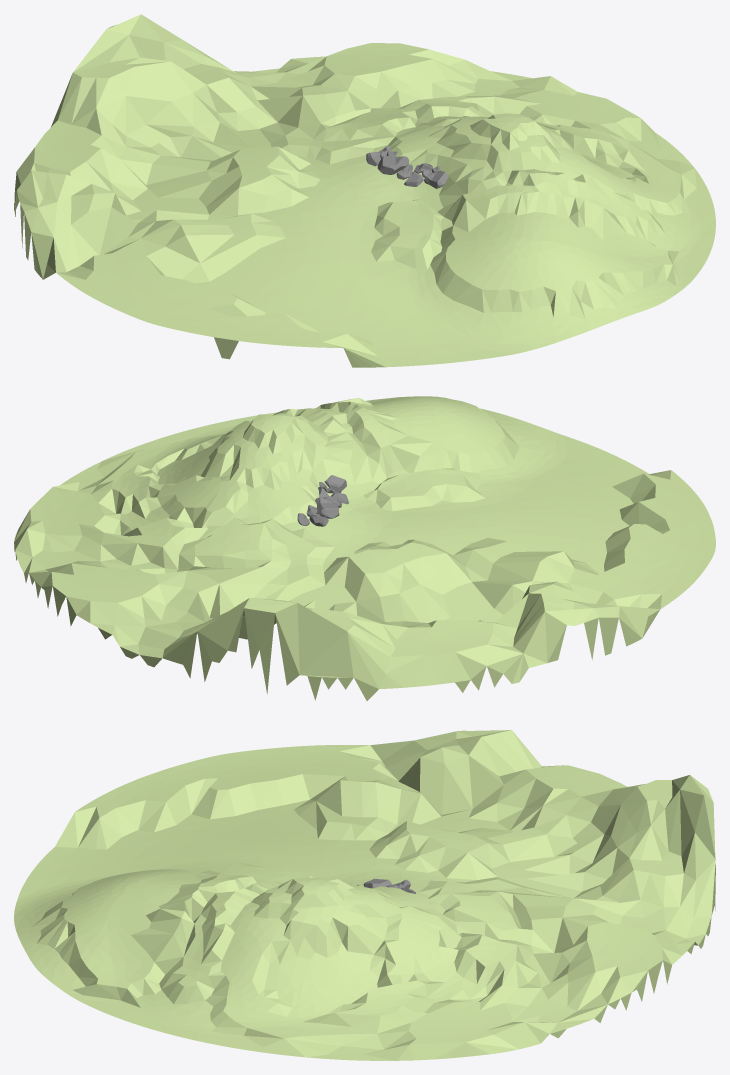
File: lowpoly.glb
The picture shows the model from 3 angles, top to bottom: view 1: azimuth 30°, elevation 25°; view 2: azimuth 150°, elevation 25°; view 3: azimuth 270°, elevation 25°; orthographic projection. The views are drawn at different scales.
Visible parts, largest first — view 1: Ground, Rocks; view 2: Ground, Rocks; view 3: Ground.
Boxes of the visible parts, bbox=[...] form: Ground: bbox=[14, 14, 715, 367]; Rocks: bbox=[366, 145, 448, 188]; Ground: bbox=[14, 396, 715, 700]; Rocks: bbox=[297, 475, 348, 526]; Ground: bbox=[14, 730, 715, 1060].
Bounding box in the file's own units: 36.17 × 5.24 × 36.17.
Materials: 1 (1 with a texture image).
